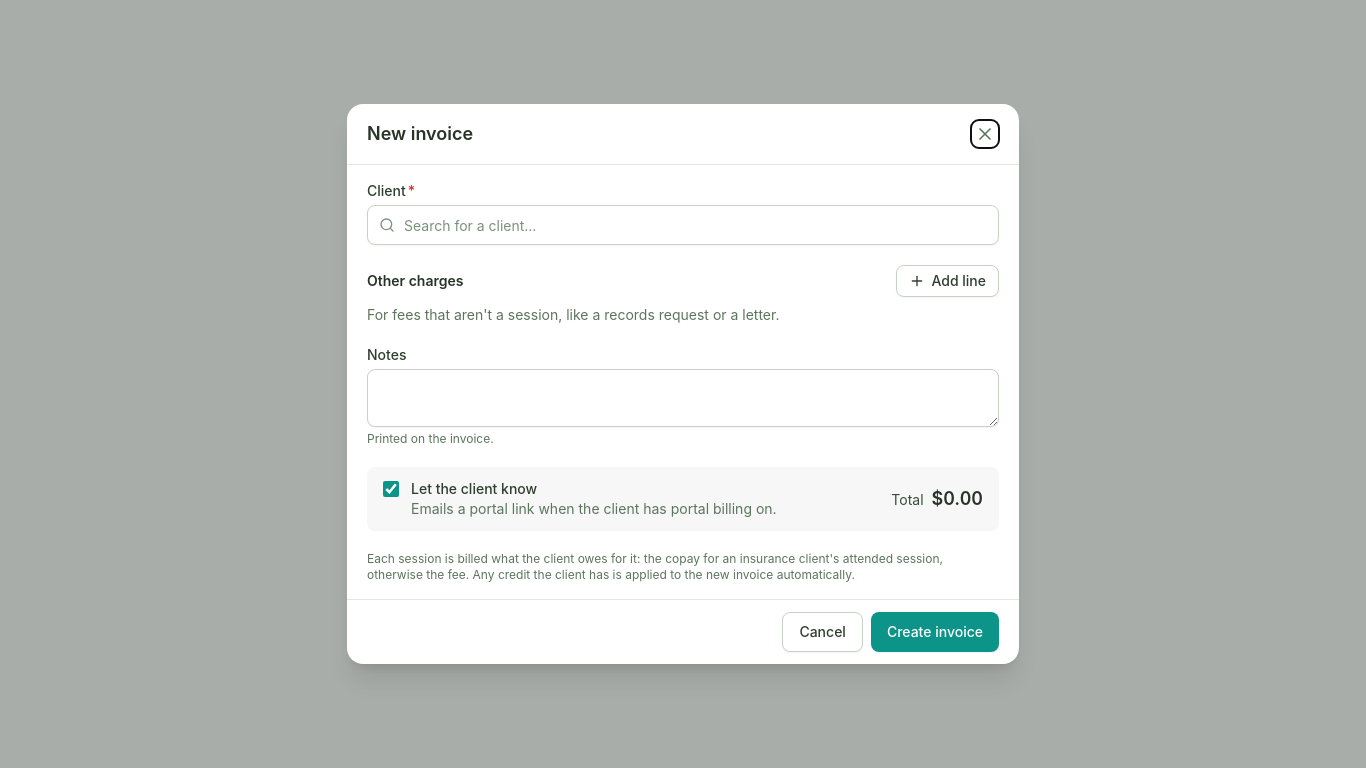
Scenario: NewInvoiceModal › searches the clients whose billing the signed-in person sees, then loads their sessions
In the dropdown labelled "Client*": (683, 225) [367,205,999,245], type "riv"
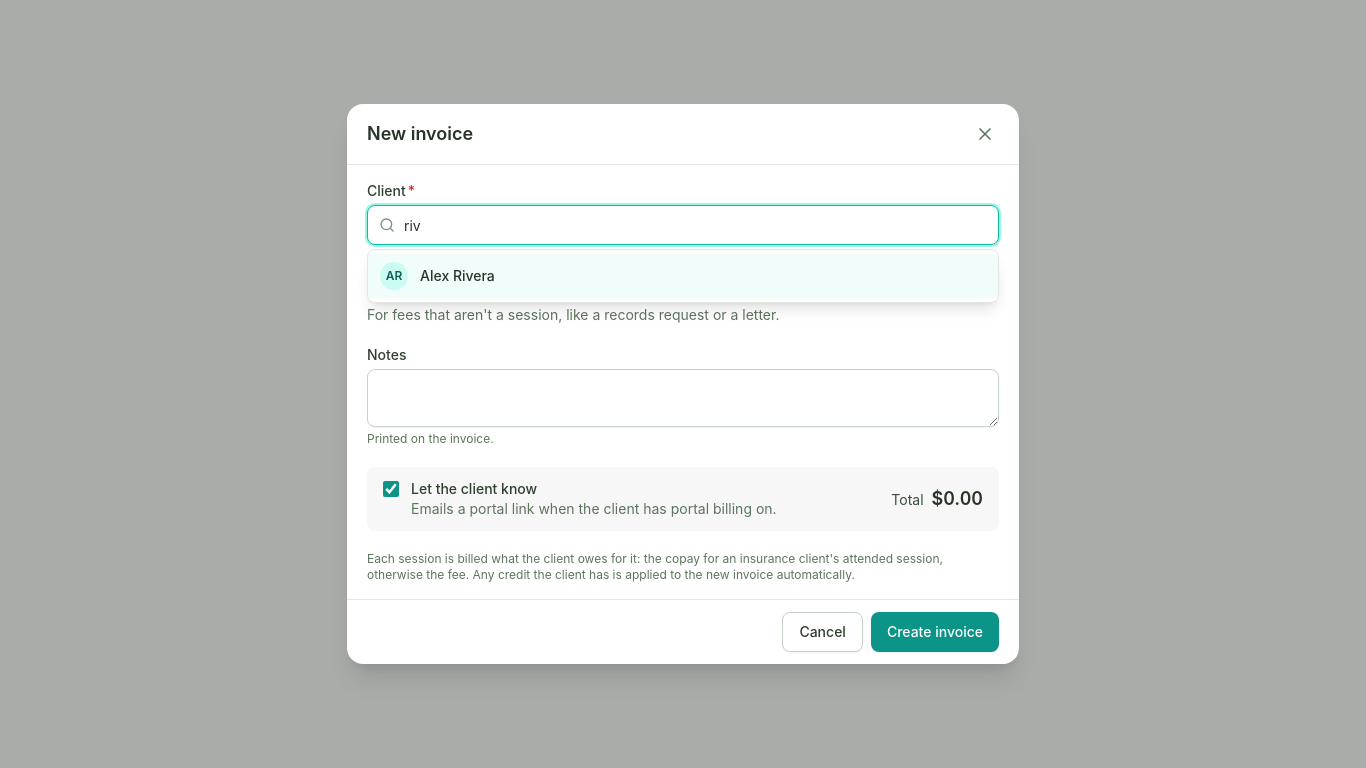
Click the option "AR Alex Rivera": (457, 276) [368,254,998,298]
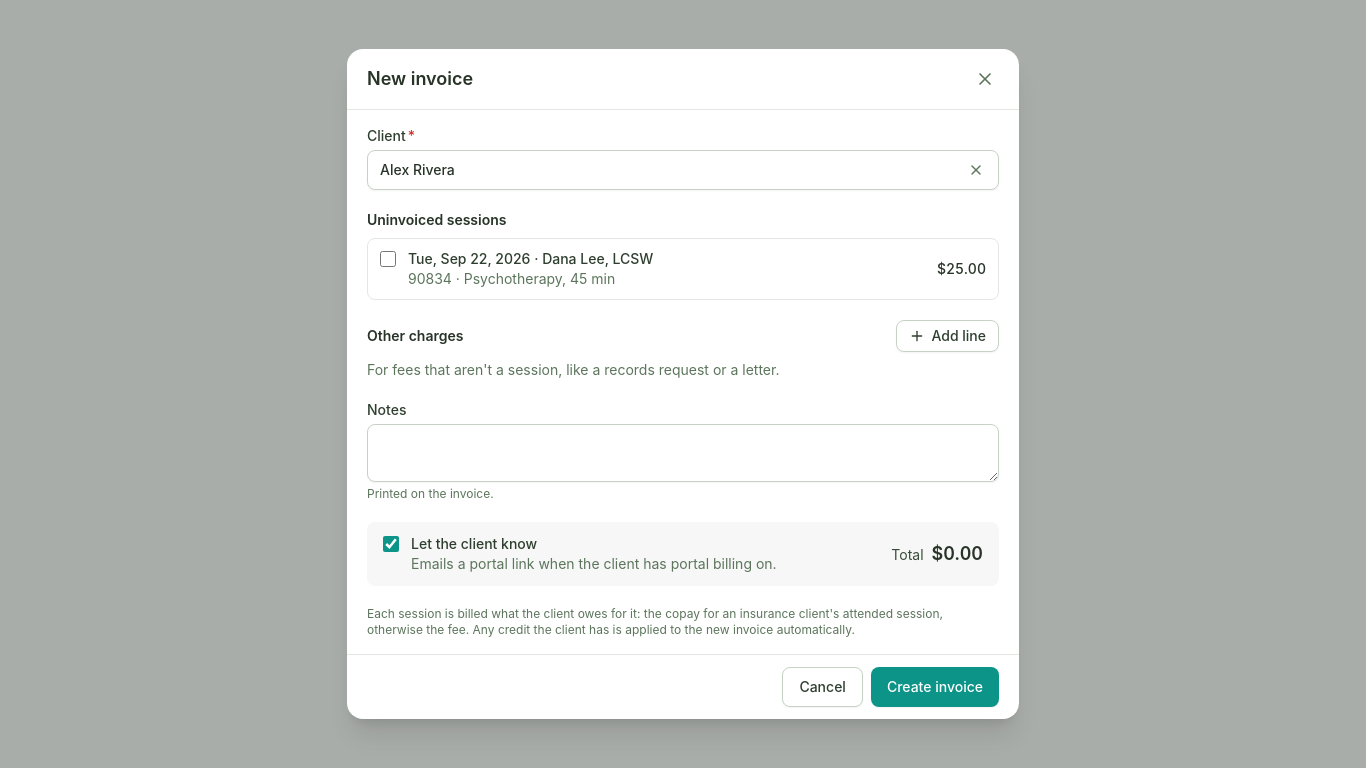
Expected: the text "Alex Rivera" is shown, [380,160,455,180]
Expected: the checkbox labelled "Dana Lee, LCSW" is shown, [380,251,396,267]
